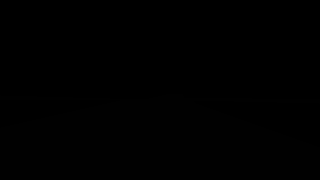go_ahead: (192, 70, 202, 81)
